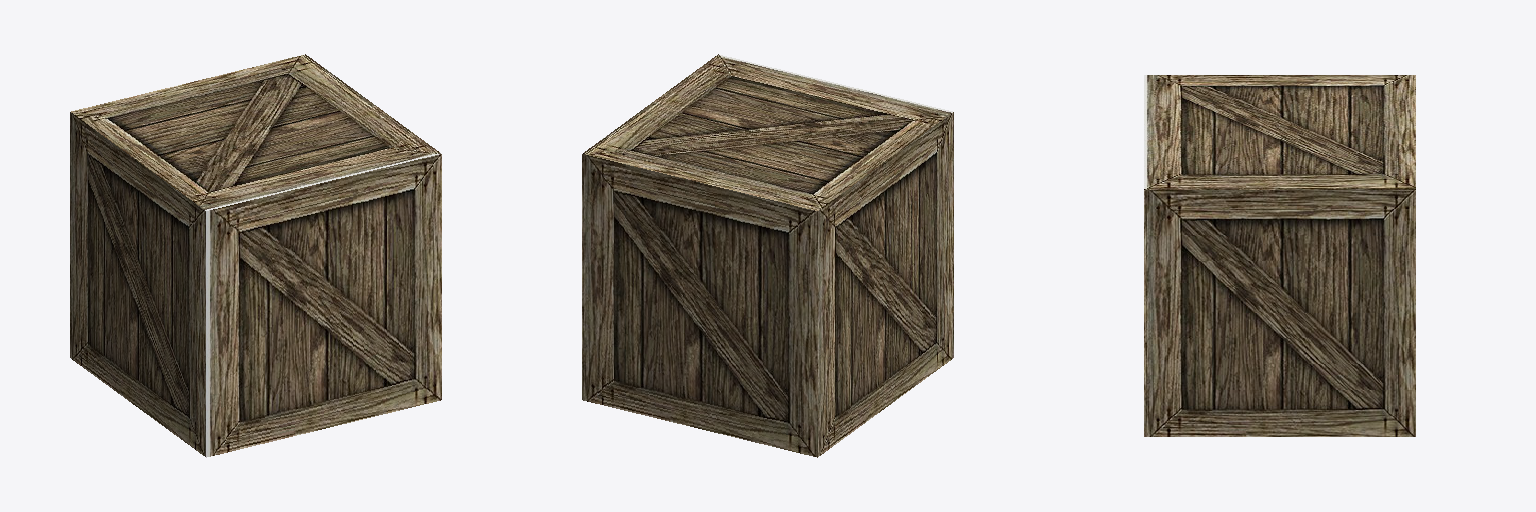
3 views of the same model, side by side, from view 1: azimuth 30°, elevation 25°; view 2: azimuth 150°, elevation 25°; view 3: azimuth 270°, elevation 25° (orthographic).
Visible parts, largest first — view 1: Cube; view 2: Cube; view 3: Cube.
Part boxes in pixels (left/top/right/bottom): Cube: left=70, top=54, right=441, bottom=457; Cube: left=582, top=54, right=953, bottom=457; Cube: left=1144, top=75, right=1415, bottom=436.
Size of the model in its own units: 2 by 2 by 2.
Materials: 1 (1 with a texture image).